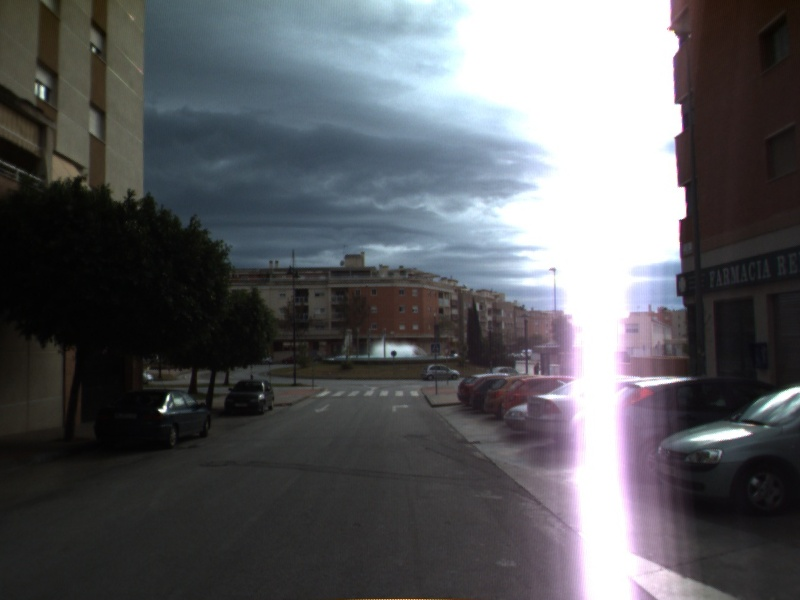RIGHT: (390, 402, 412, 414)
